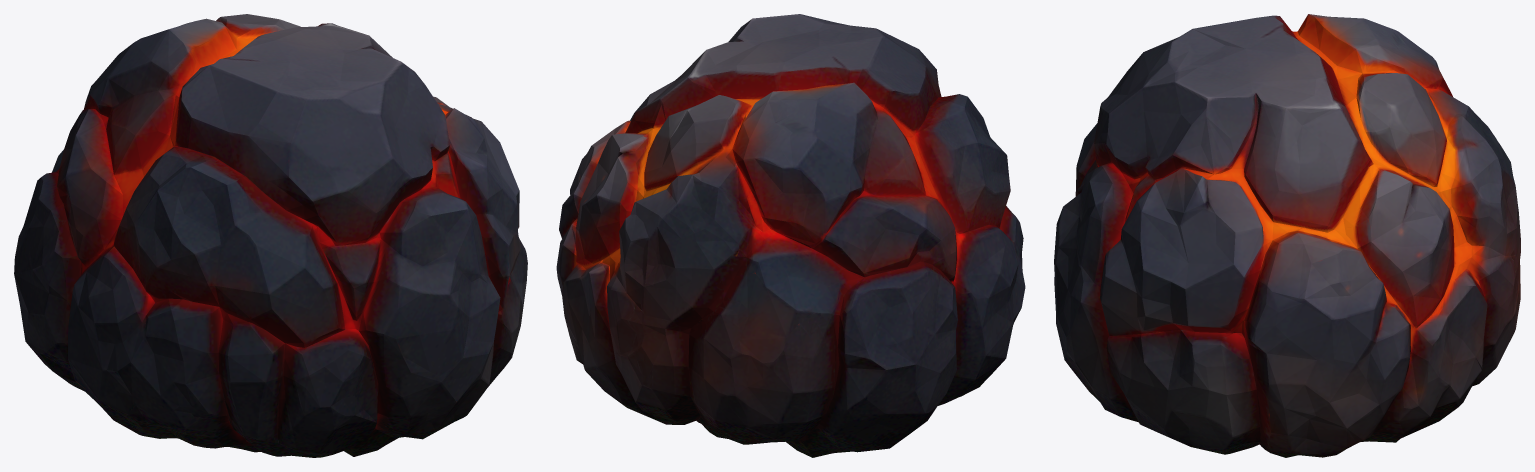
The model's file is lava_boulder.glb.
The picture shows the model from 3 angles, left to right: view 1: azimuth 30°, elevation 25°; view 2: azimuth 150°, elevation 25°; view 3: azimuth 270°, elevation 25°; orthographic projection. The views are drawn at different scales.
Parts seen in each view (by area): view 1: world; view 2: world; view 3: world.
Part boxes in pixels (left/top/right/bottom): world: left=14, top=14, right=527, bottom=457; world: left=556, top=14, right=1025, bottom=457; world: left=1054, top=14, right=1520, bottom=457.
Bounding box in the file's own units: 0.9972 × 0.8306 × 0.9875.
Materials: 1 (1 with a texture image).
